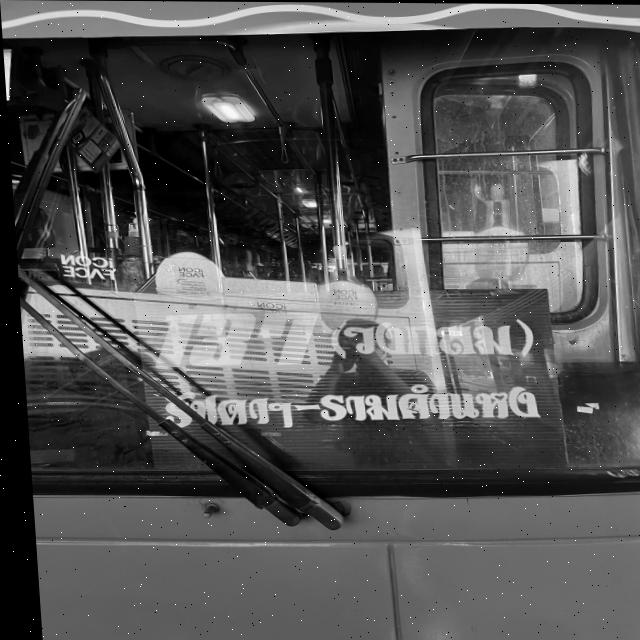Destination Sign: (129, 293, 563, 464)
